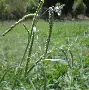weed: (44, 21, 88, 89)
